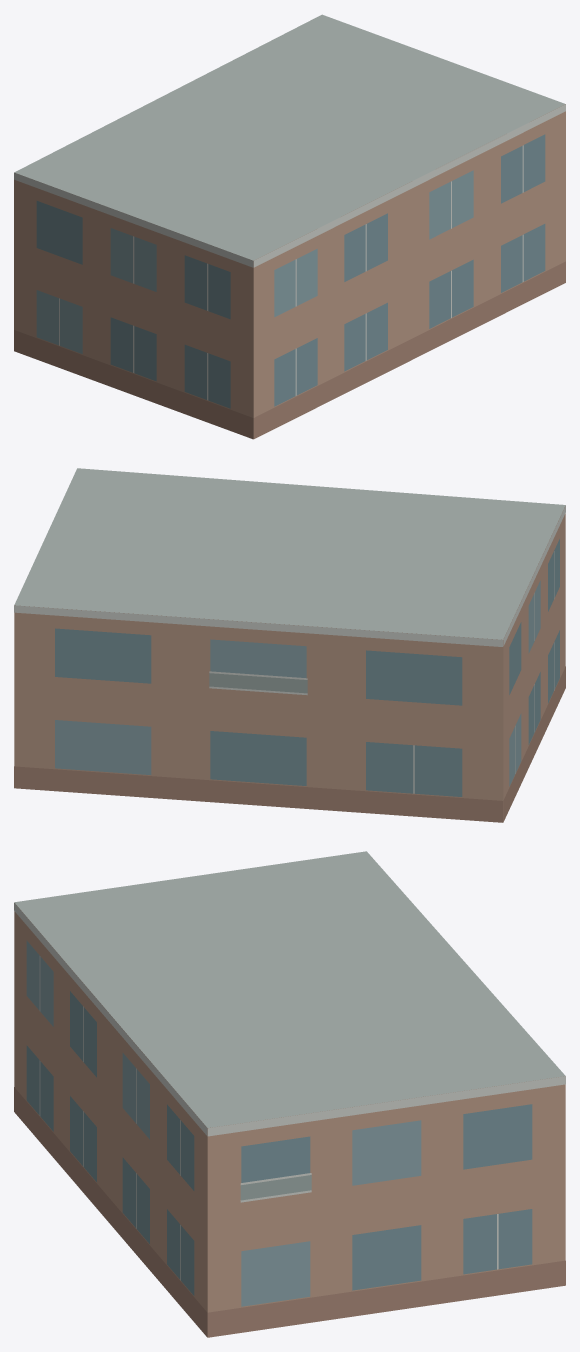
The model's file is survey-upis-33025453.glb.
3 renders of one model, top to bottom at view 1: azimuth 30°, elevation 25°; view 2: azimuth 150°, elevation 25°; view 3: azimuth 270°, elevation 25°, orthographic. The views are drawn at different scales.
Parts seen in each view (by area): view 1: survey-upis-33025453.tmp; view 2: survey-upis-33025453.tmp; view 3: survey-upis-33025453.tmp.
Part boxes in pixels (left/top/right/bottom): survey-upis-33025453.tmp: left=14, top=14, right=565, bottom=439; survey-upis-33025453.tmp: left=14, top=468, right=565, bottom=822; survey-upis-33025453.tmp: left=14, top=851, right=565, bottom=1337.
Size of the model in its own units: 17.3 by 6.1 by 14.56.
